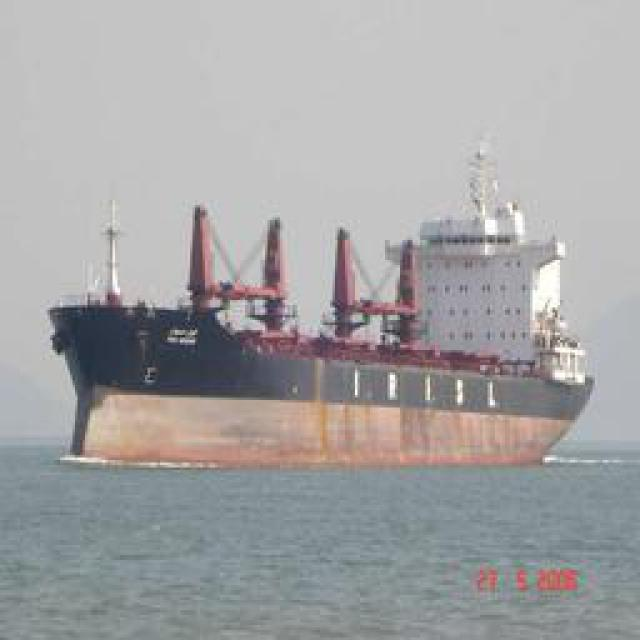Ship: (50, 194, 595, 464)
